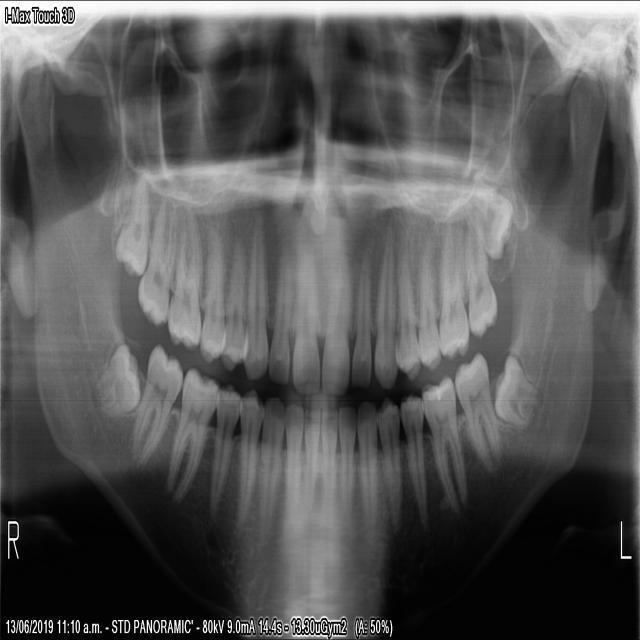LCD: (355, 396, 377, 530)
LCU: (372, 213, 398, 396)
LID: (337, 401, 356, 522), (320, 407, 337, 520)
LIU: (320, 250, 349, 397), (350, 248, 370, 388)
LMD: (419, 369, 467, 517), (452, 346, 502, 478), (493, 347, 539, 428)
LMU: (438, 220, 469, 362), (464, 217, 497, 339)
LPMD: (398, 390, 428, 533), (376, 396, 403, 530)
LPMU: (396, 224, 421, 384), (416, 225, 442, 374)
RCD: (256, 389, 283, 540)
RCU: (240, 219, 267, 381)
RID: (283, 398, 302, 528), (300, 402, 321, 519)
RIU: (289, 246, 320, 396), (266, 240, 293, 385)
RMD: (162, 361, 217, 508), (130, 338, 183, 475), (91, 339, 140, 419)
RMU: (134, 190, 176, 330), (165, 197, 201, 352)
RPMD: (207, 381, 239, 521), (233, 386, 260, 527)
RPMU: (218, 232, 247, 372), (196, 223, 223, 364)
